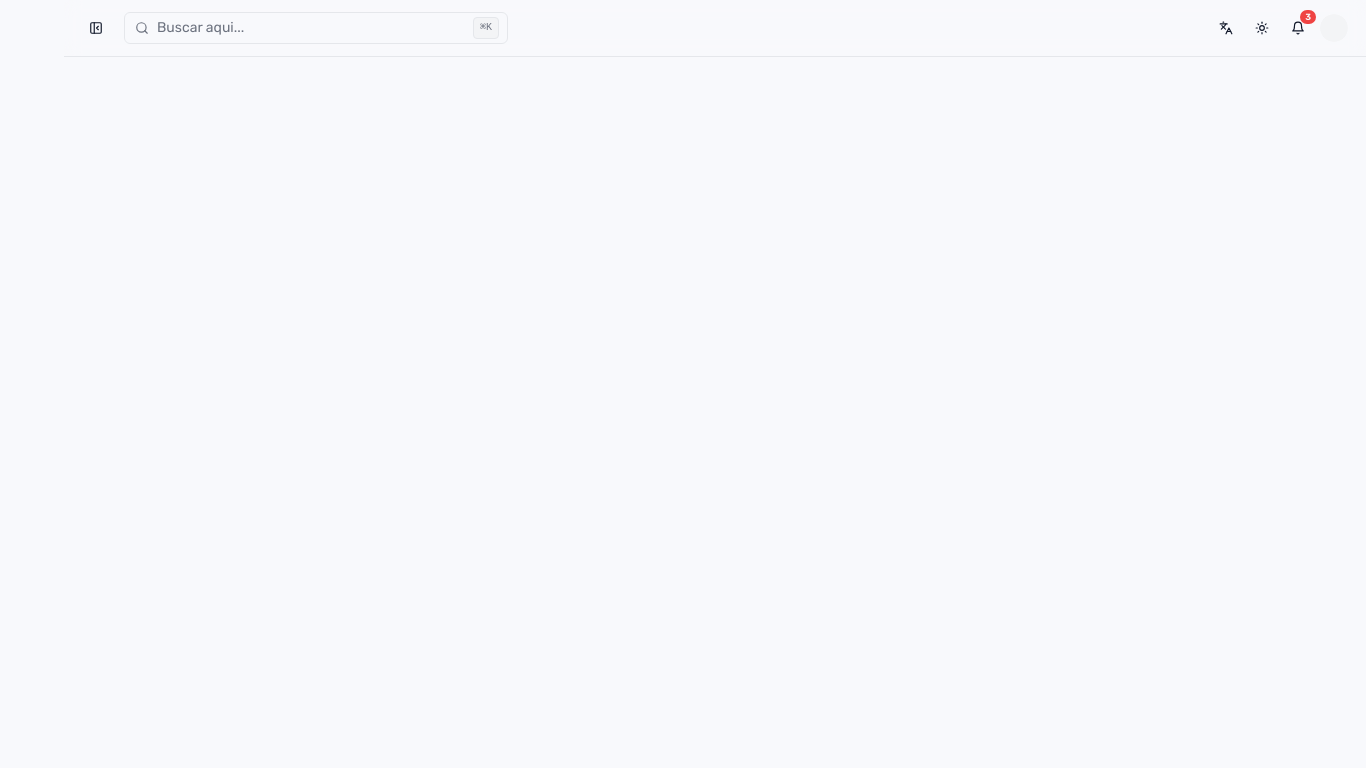
Test: global search › runs a suggestion when it is picked
Click the button "Buscar aqui... ⌘K" at x=201, y=28, box [124, 12, 508, 44]
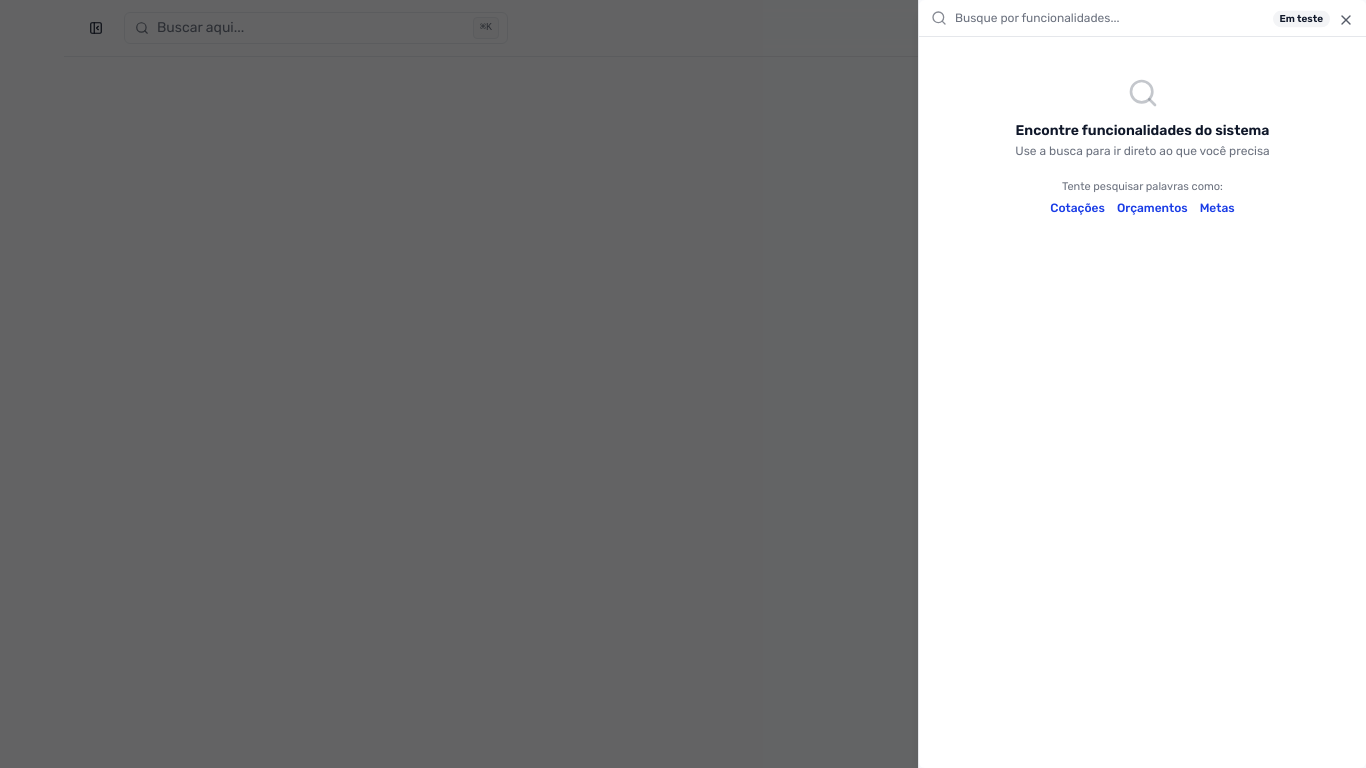
Click the button "Cotações" at x=1078, y=208, box [1050, 200, 1105, 216]
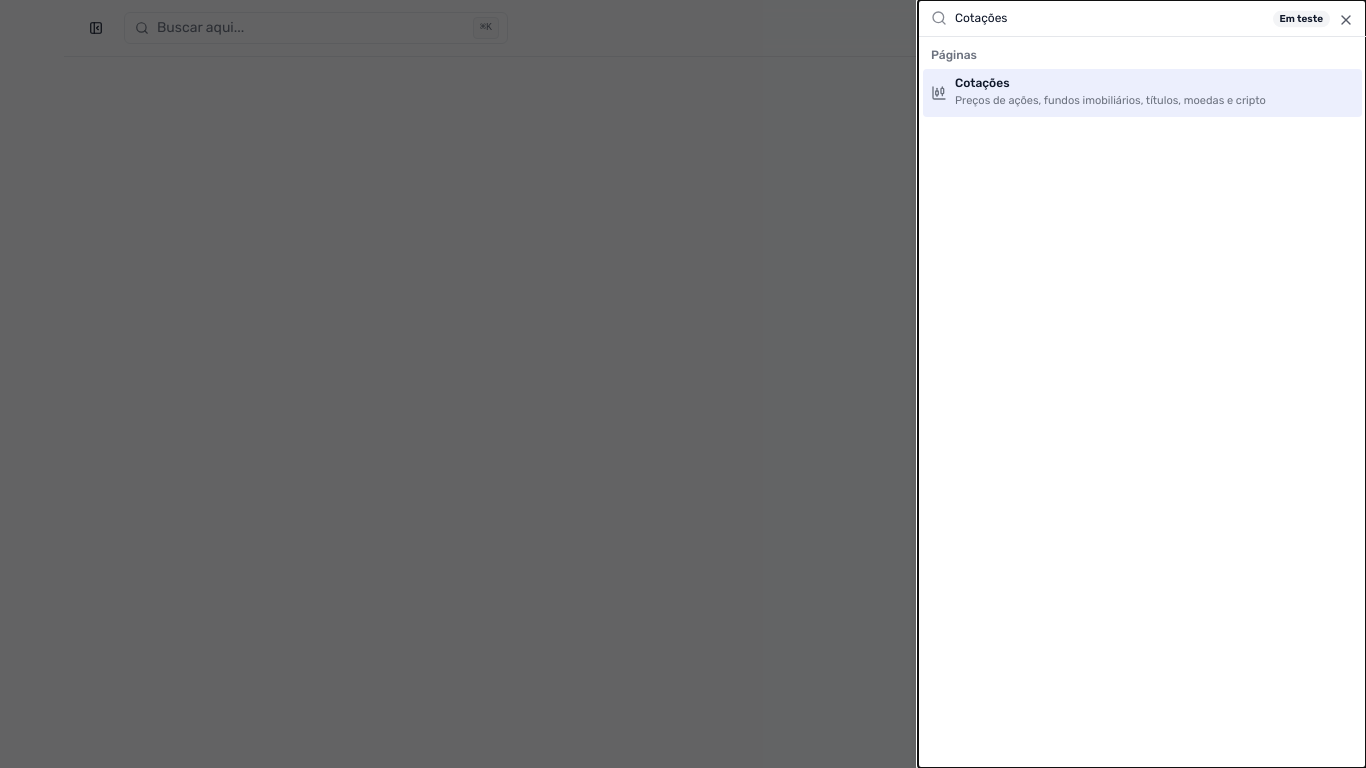
Now the text "Encontre funcionalidades do sistema" is gone
Now the option shows "Cotações", box [923, 69, 1362, 117]
